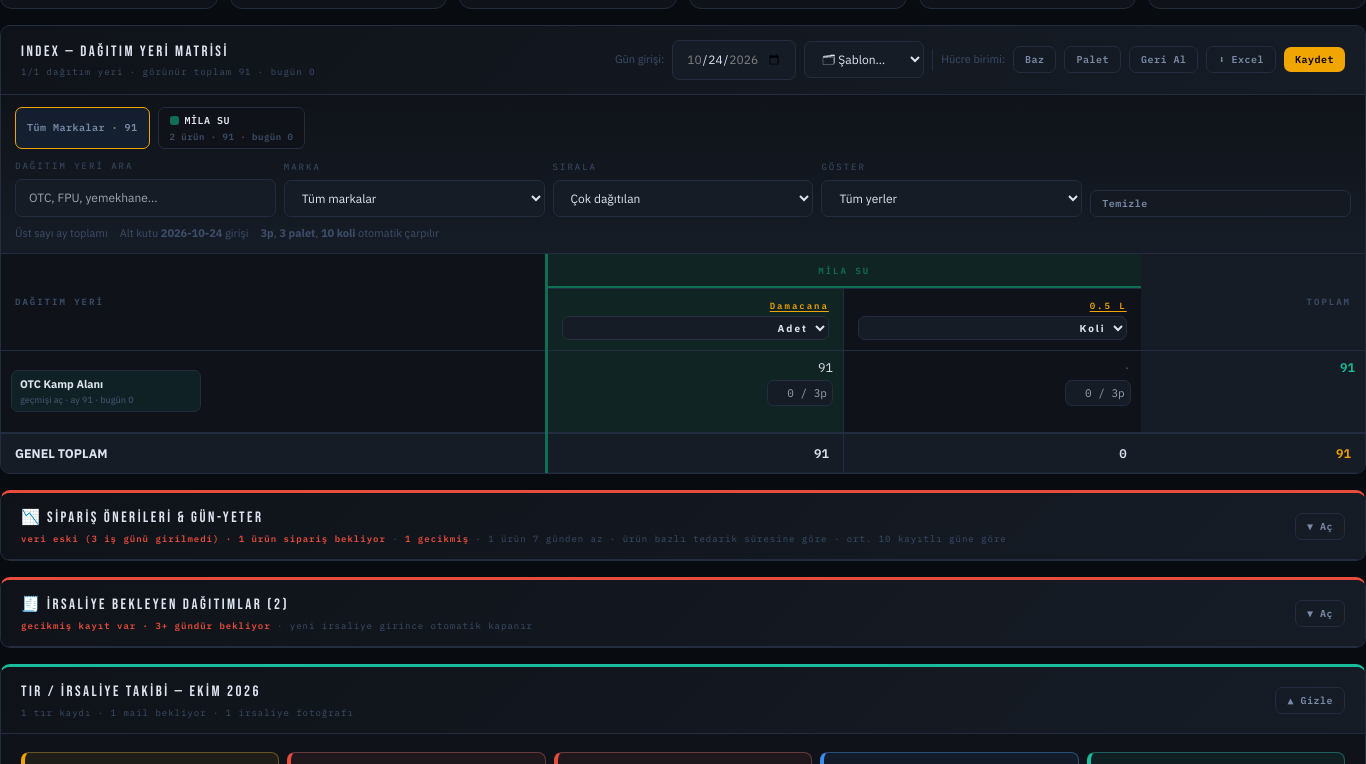
WaterPage tek-ekran pano smoke › dağıtım yeri satırı tıklanınca dağıtım geçmişi modalı açılır
This screenshot has width=1366, height=764.
(page scrolled)
Click the text "OTC Kamp Alanı" at (62, 384), box [20,377,103,391]
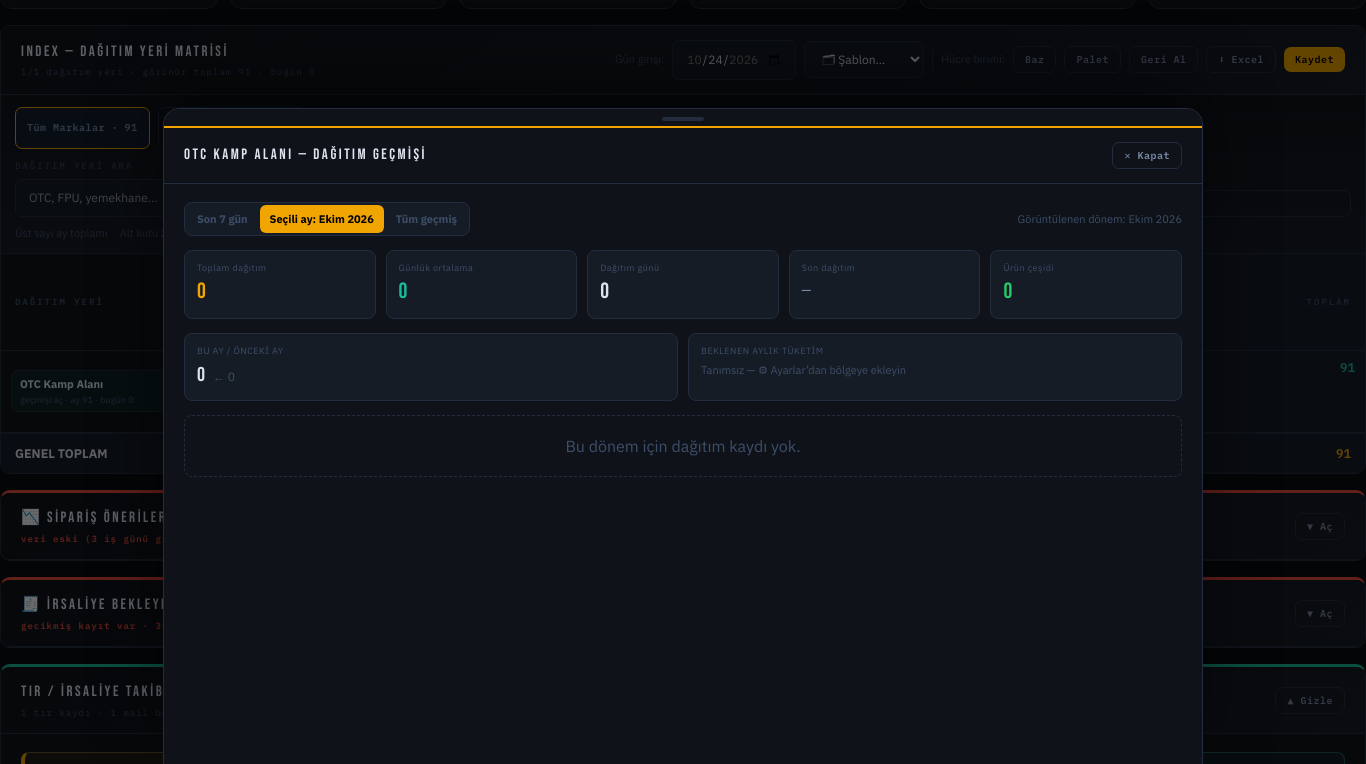
Now the text "OTC Kamp Alanı — DAĞITIM GEÇMİŞİ" is shown, box [184,144,427,166]
Now the button "Son 7 gün" is shown, box [187,204,258,233]
Now the text "Günlük ortalama" is shown, box [399,262,473,273]
